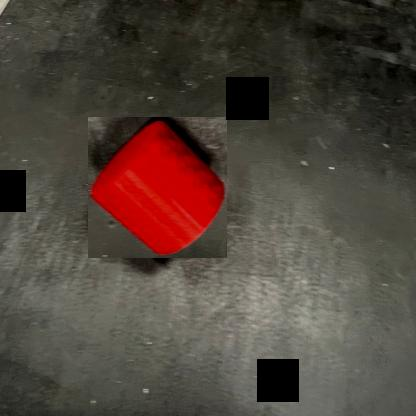red cylinder: (88, 117, 227, 258)
